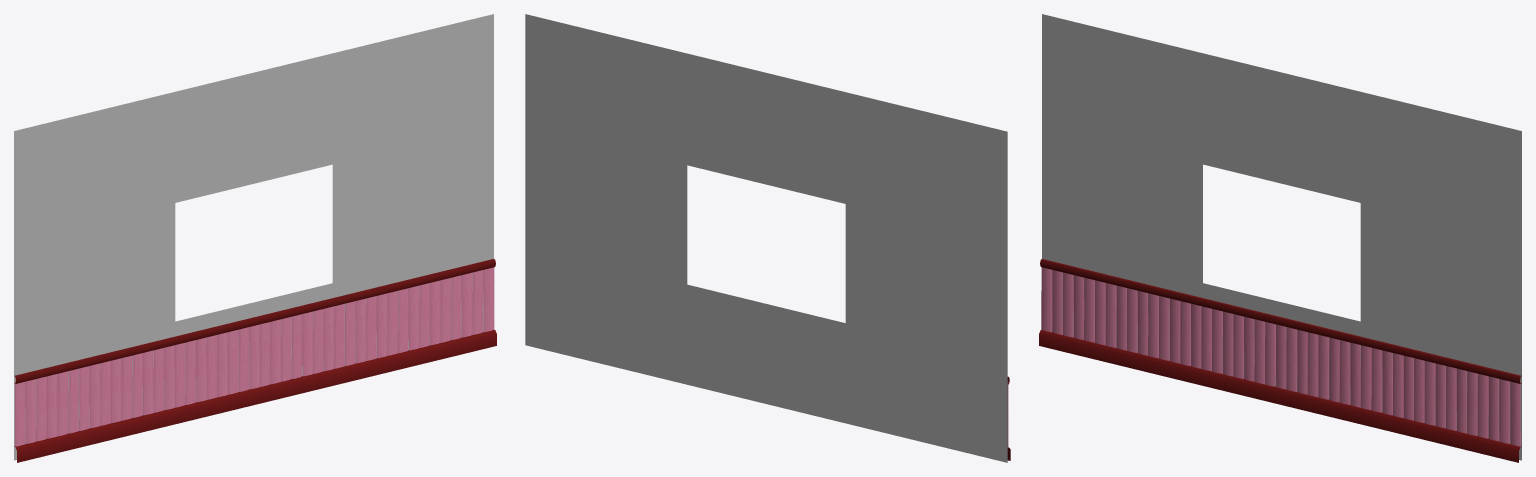
The model's file is wallWindow.fbx.
The picture shows the model from 3 angles, left to right: view 1: azimuth 30°, elevation 25°; view 2: azimuth 150°, elevation 25°; view 3: azimuth 330°, elevation 25°; orthographic projection.
Parts seen in each view (by area): view 1: wallWindow; view 2: wallWindow; view 3: wallWindow.
Boxes of the visible parts, x1,y1,x2,y2 form: wallWindow: (14, 14, 496, 462); wallWindow: (525, 14, 1010, 462); wallWindow: (1039, 14, 1521, 462).
Size of the model in its own units: 20 by 13.13 by 0.2101.
